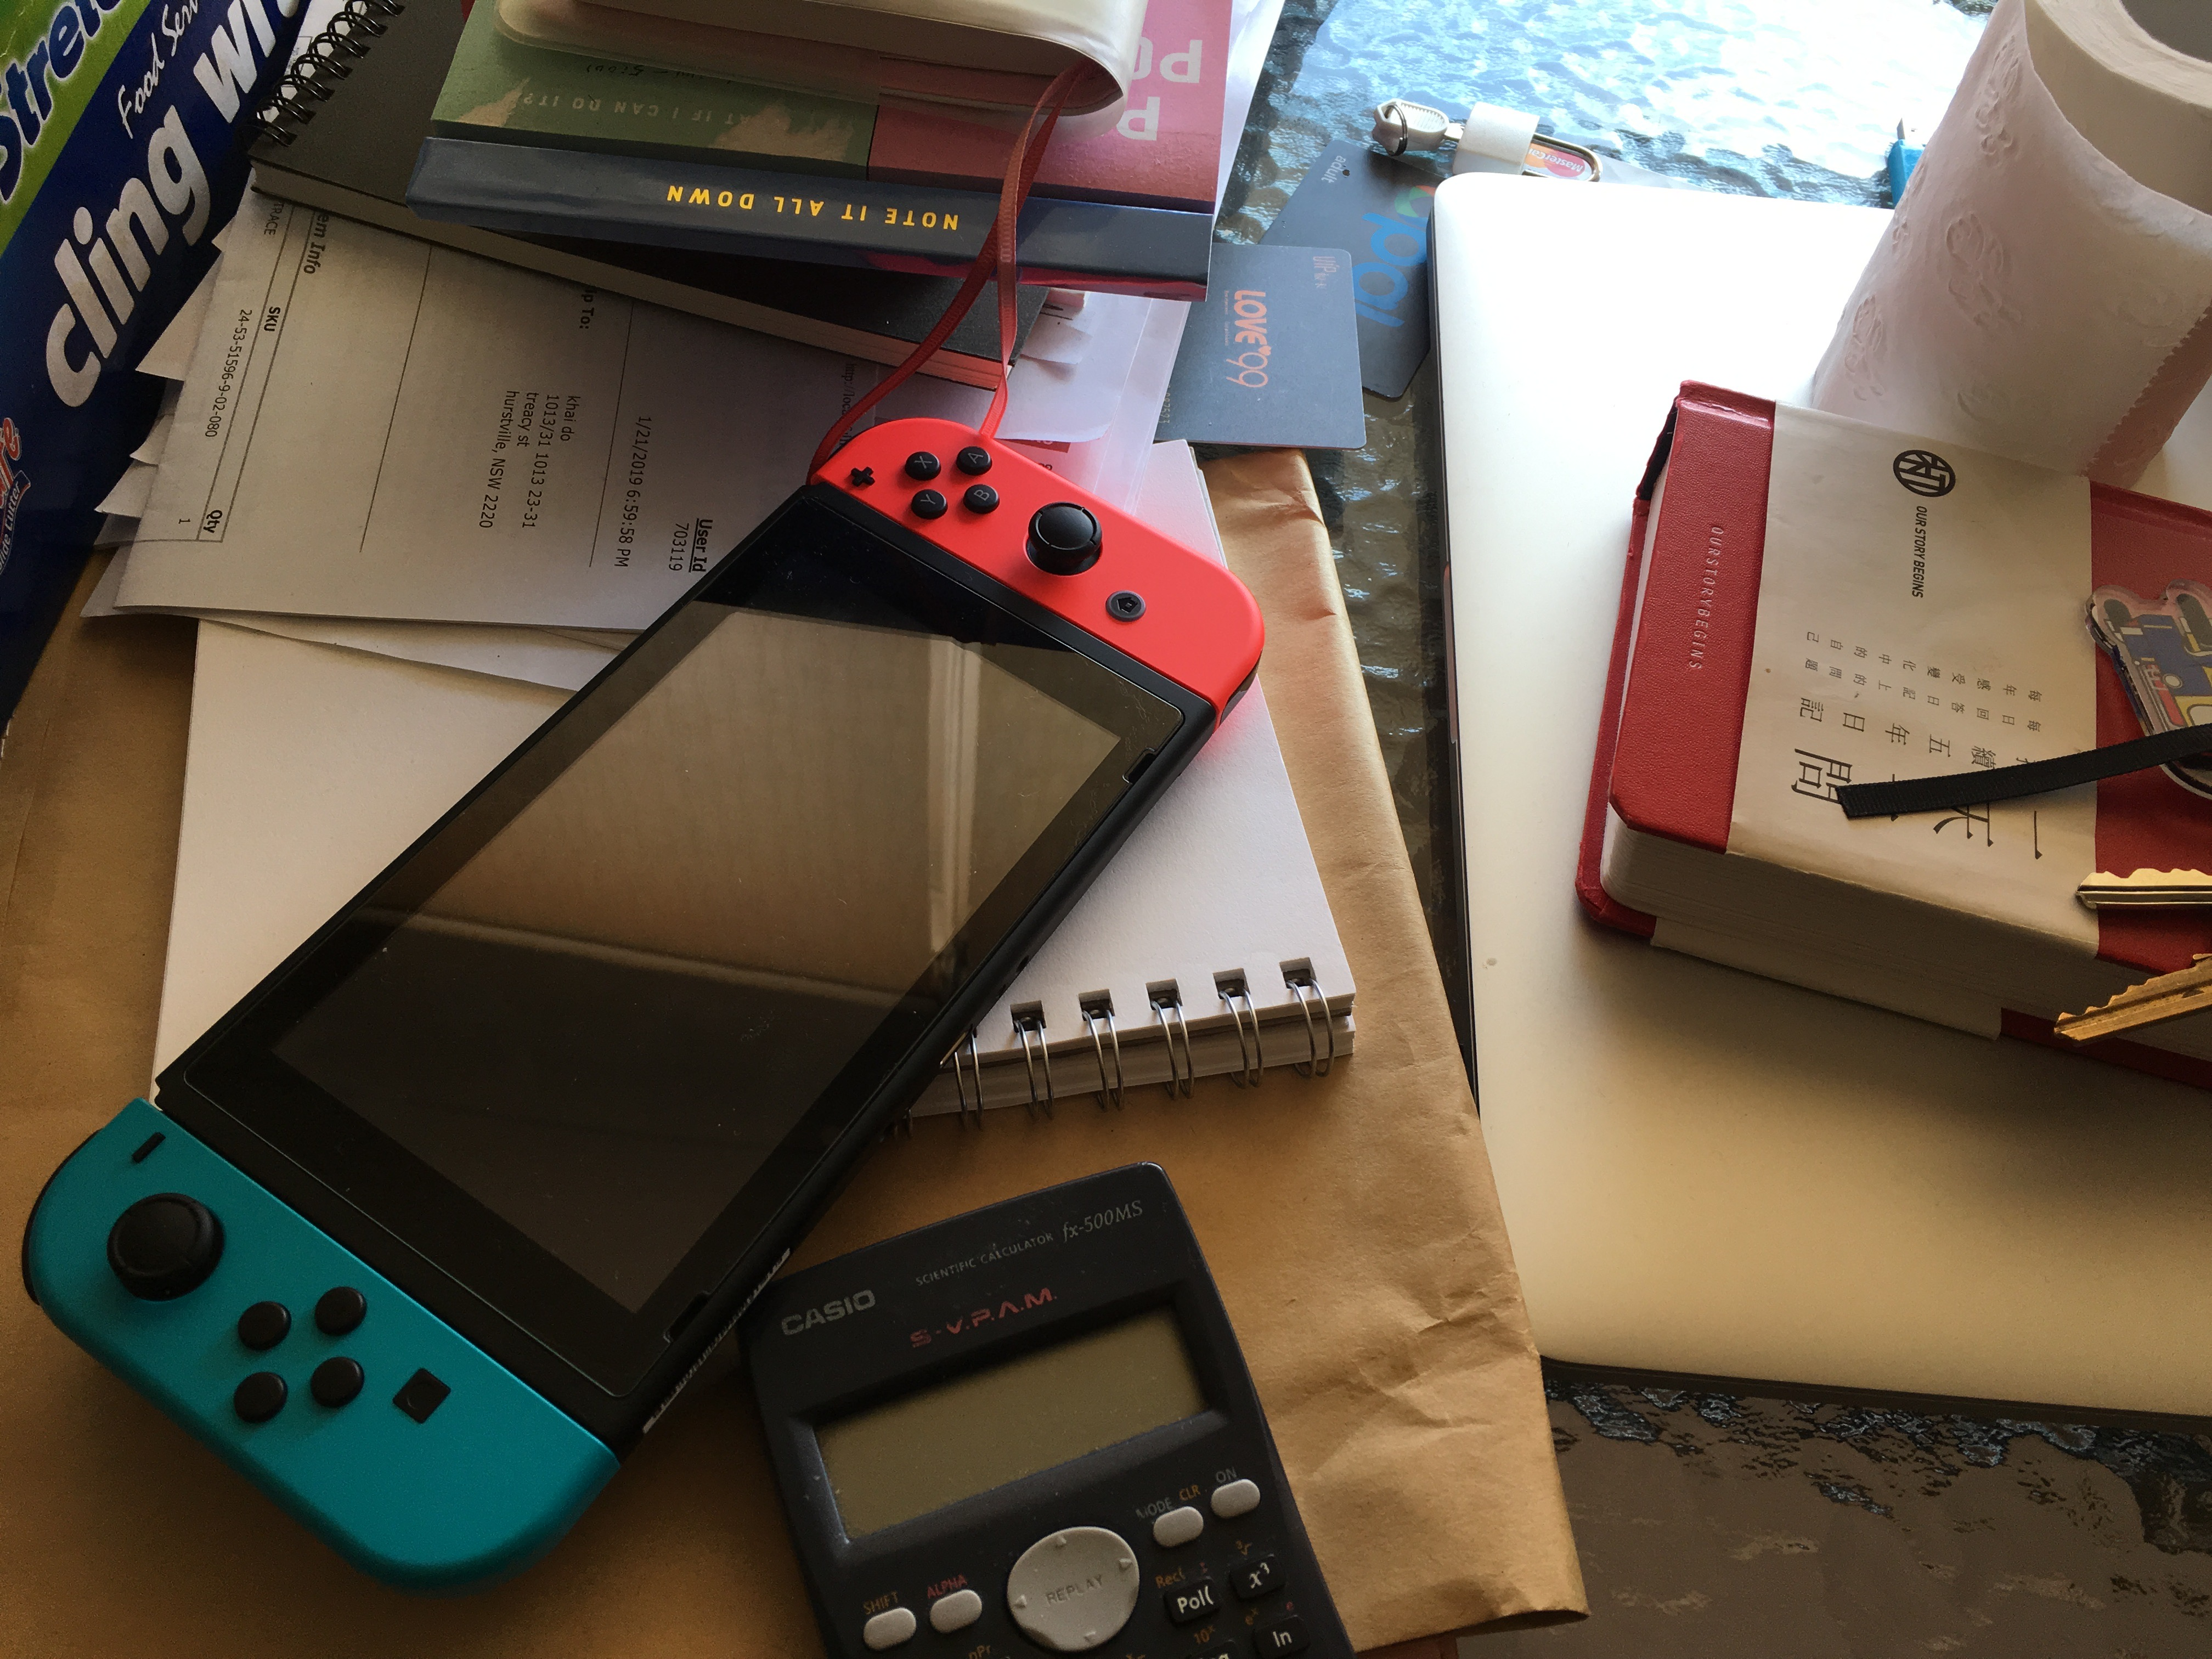NintendoSwitch: (0, 403, 1280, 1605)
